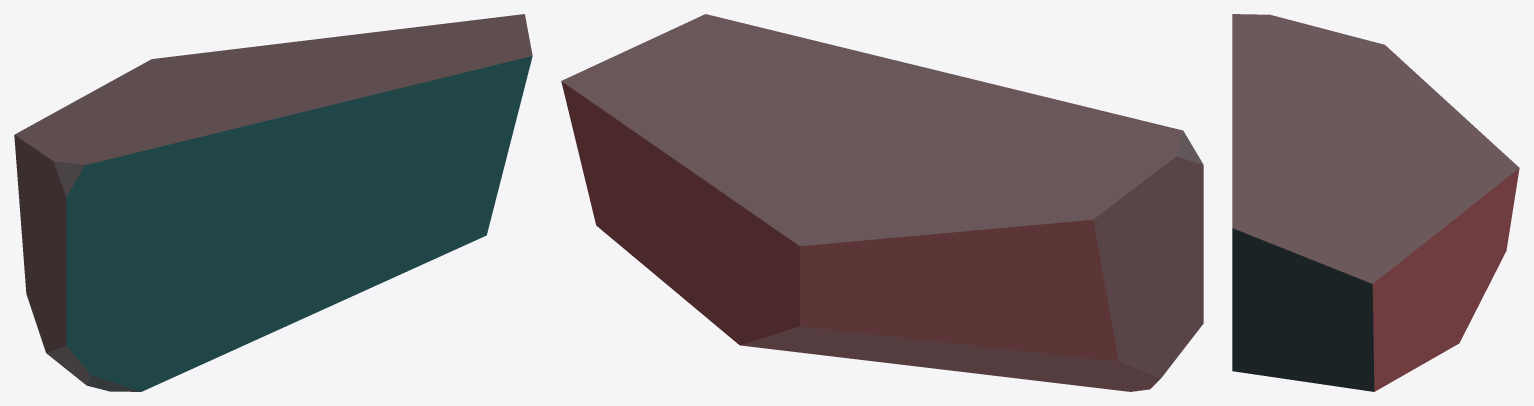
Rendered from gemstone_anim_10_10_0.glb.
3 renders of one model, left to right at view 1: azimuth 30°, elevation 25°; view 2: azimuth 150°, elevation 25°; view 3: azimuth 270°, elevation 25°, orthographic. The views are drawn at different scales.
Visible parts, largest first — view 1: gemstone_anim_10_10_0; view 2: gemstone_anim_10_10_0; view 3: gemstone_anim_10_10_0.
Part boxes in pixels (x1,y1,x2,y2): gemstone_anim_10_10_0: [14, 14, 532, 391]; gemstone_anim_10_10_0: [561, 14, 1203, 391]; gemstone_anim_10_10_0: [1232, 14, 1519, 391].
Size of the model in its own units: 1617 by 713 by 773.
